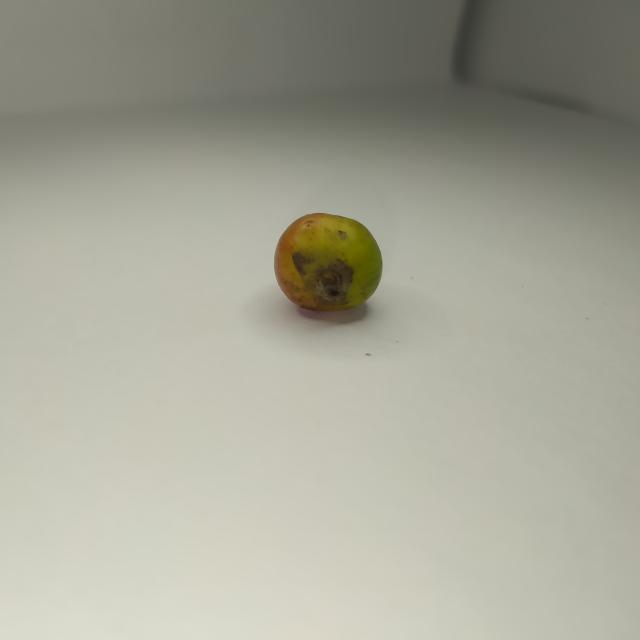Infectado: (274, 213, 382, 312)
